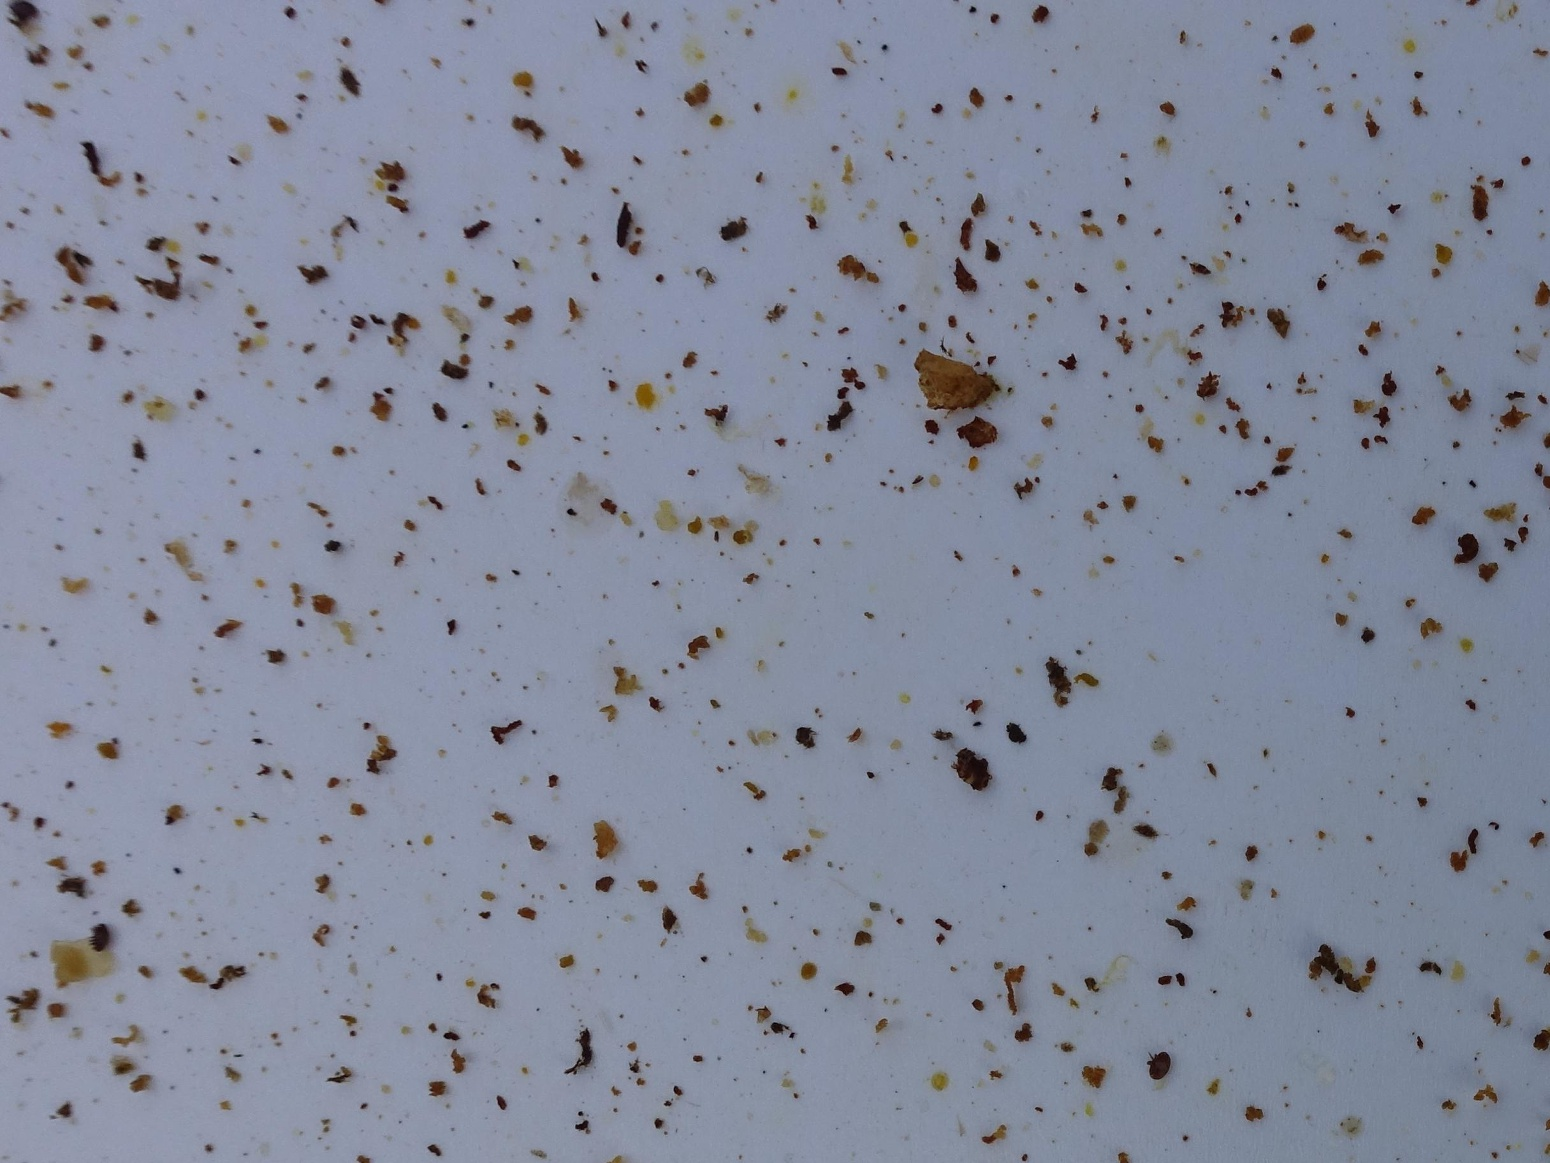Varroa: (1142, 1051, 1177, 1086), (79, 928, 109, 961)
